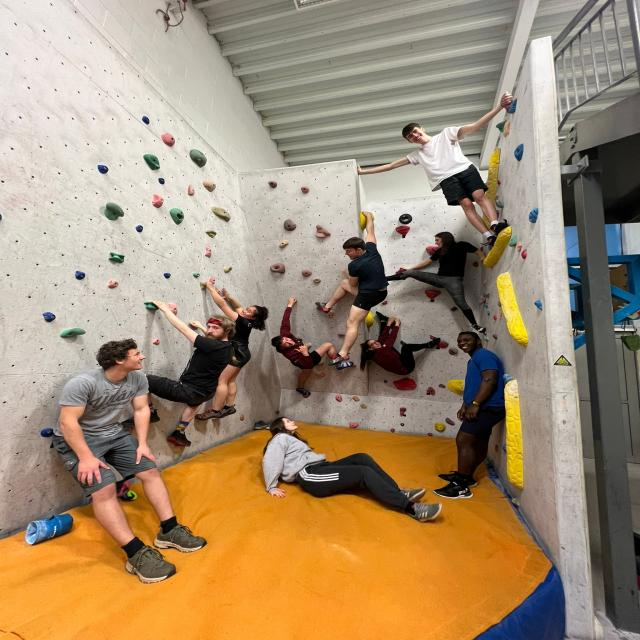Crimp: (513, 242, 531, 258), (106, 251, 127, 264), (525, 208, 541, 223), (40, 312, 60, 324), (39, 426, 57, 439), (534, 296, 548, 312), (201, 180, 219, 191), (74, 270, 88, 282), (140, 115, 151, 125), (151, 338, 163, 347), (135, 224, 145, 233), (163, 272, 174, 280)
Jug: (58, 325, 88, 341), (208, 206, 234, 223), (103, 202, 124, 221), (312, 224, 332, 242), (270, 261, 292, 277), (142, 153, 160, 172), (282, 218, 298, 234), (423, 288, 443, 300), (394, 224, 413, 236), (142, 300, 160, 312), (203, 228, 219, 239), (425, 245, 442, 254), (424, 386, 438, 396), (266, 180, 280, 189), (398, 406, 407, 419), (301, 269, 313, 278), (299, 186, 312, 194), (221, 264, 234, 272), (312, 278, 322, 284)
Pinch: (148, 193, 166, 209), (106, 278, 120, 290), (277, 239, 291, 250), (97, 164, 110, 175), (205, 247, 215, 260), (188, 183, 195, 196)
Pocket: (511, 144, 527, 160)
Sloper: (493, 268, 534, 350), (500, 379, 528, 495), (481, 217, 516, 273), (504, 292, 533, 351), (390, 376, 420, 394), (445, 378, 468, 395), (432, 421, 449, 433)
